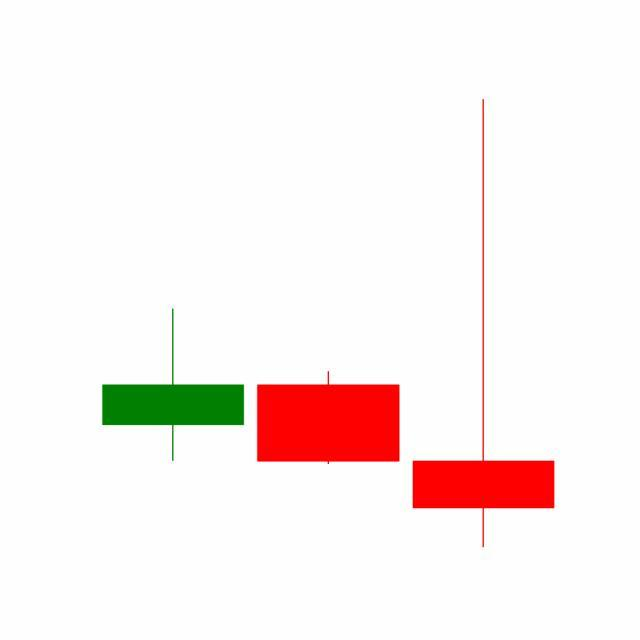Marubozu: (250, 371, 407, 467)
